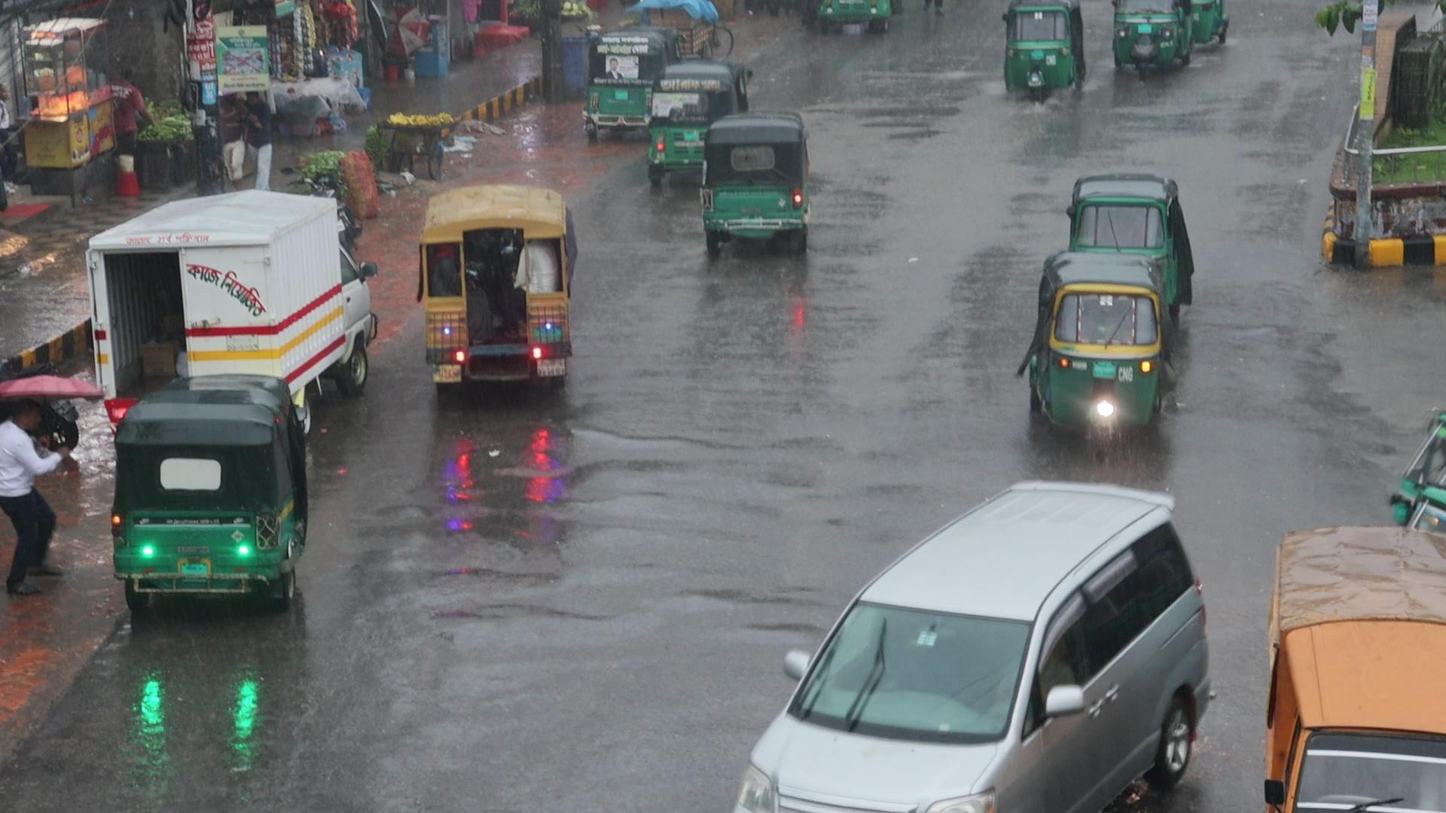Car: (728, 476, 1219, 813)
Truck: (417, 177, 580, 403)
